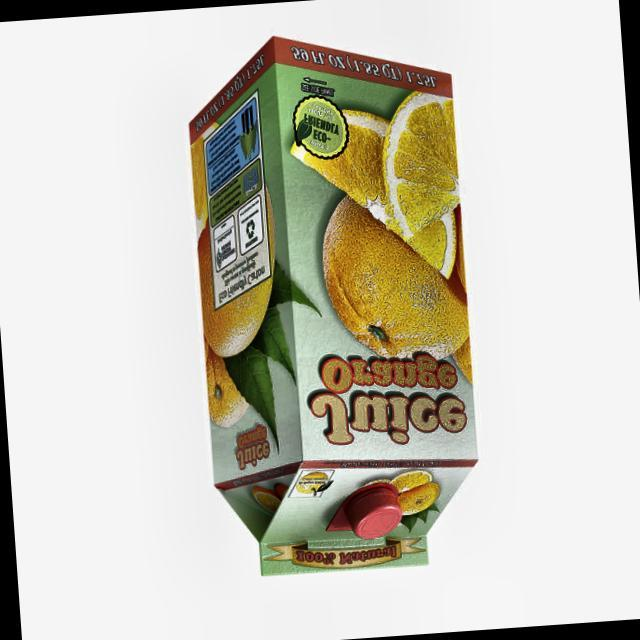cardboard: (180, 24, 488, 581)
